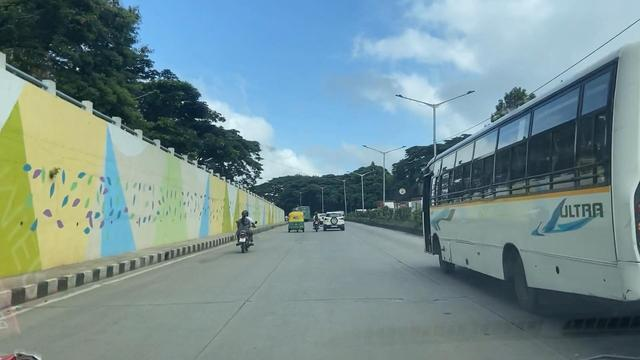HMV: (425, 75, 640, 301)
LMV: (237, 210, 257, 248)
